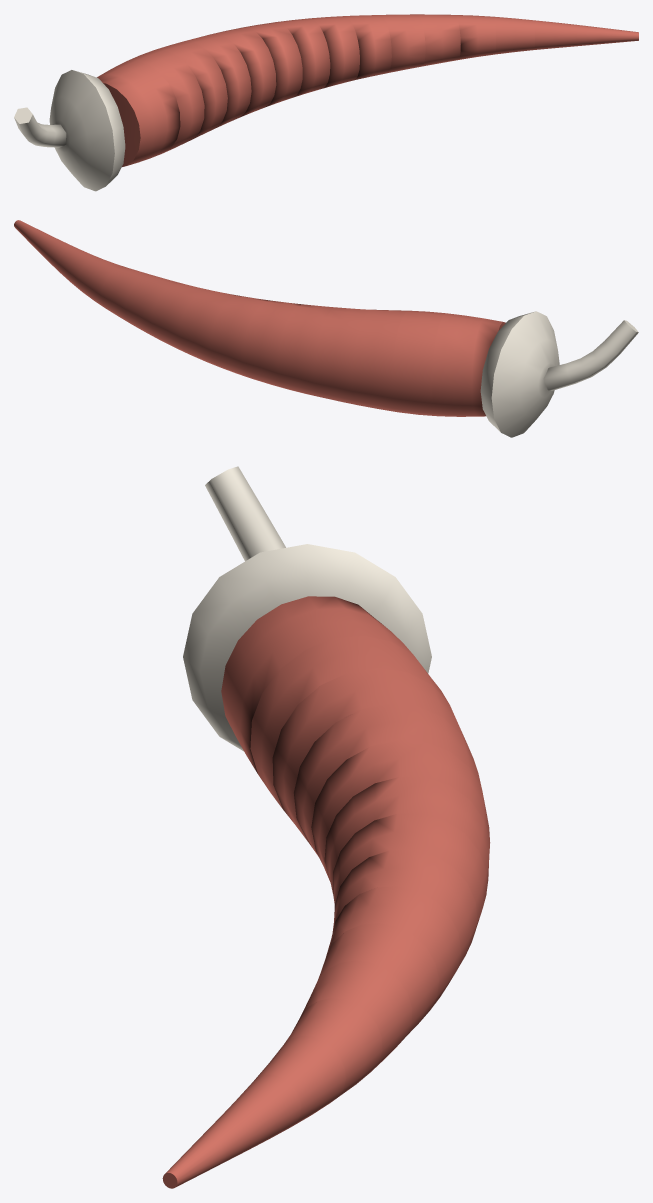
The model's file is food_chili.glb.
The picture shows the model from 3 angles, top to bottom: view 1: azimuth 30°, elevation 25°; view 2: azimuth 150°, elevation 25°; view 3: azimuth 270°, elevation 25°; orthographic projection. The views are drawn at different scales.
Visible parts, largest first — view 1: PART; view 2: PART; view 3: PART.
Boxes of the visible parts, left/top/right/bottom form: PART: left=14, top=14, right=638, bottom=191; PART: left=14, top=220, right=638, bottom=437; PART: left=162, top=466, right=490, bottom=1188.
Size of the model in its own units: 0.1644 by 0.029 by 0.0381.
